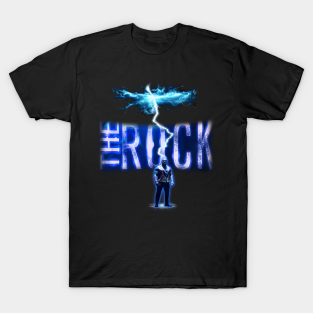design: (97, 81, 216, 212)
